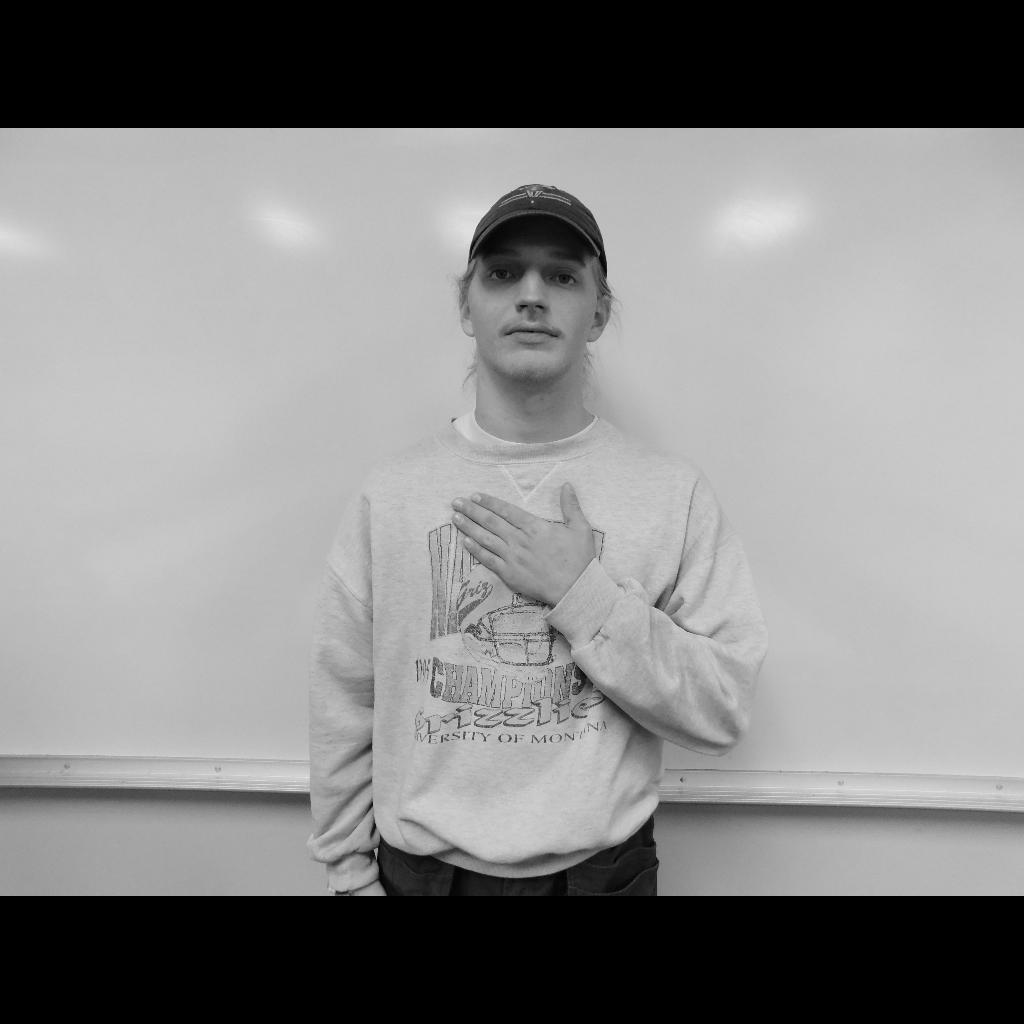my: (452, 482, 596, 600)
